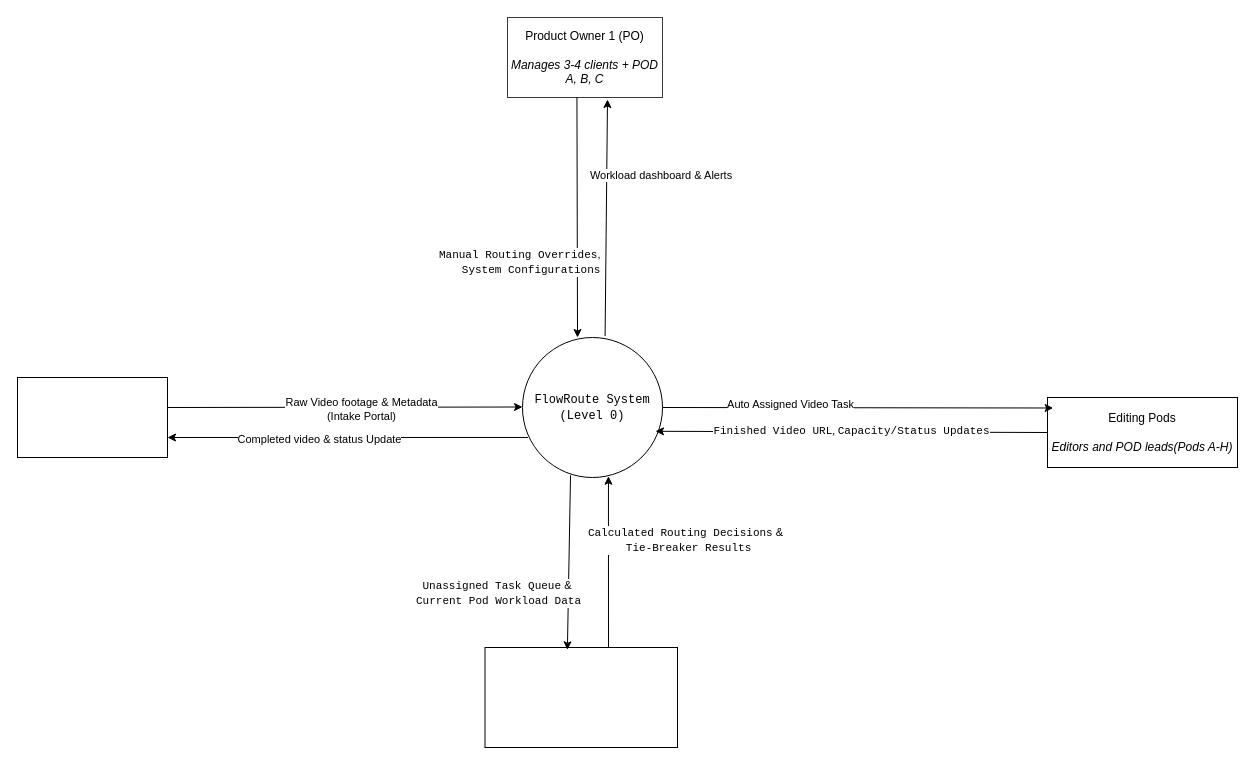
This 1255x765 diagram has some shape labels left out. The centre of each missing label's shape, as x and y in pixels:
"Client Buisness Owner/Content creator" goes at (x=92, y=417).
"Smart Routing Engine" goes at (x=581, y=697).
